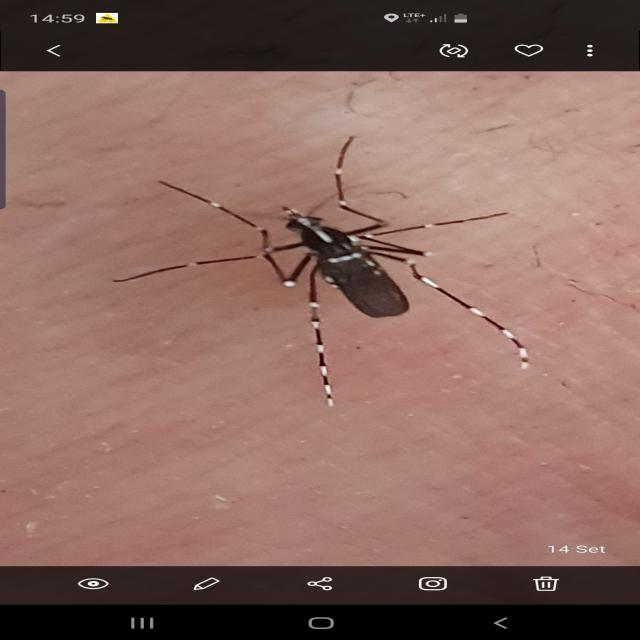albopictus: (98, 123, 567, 411)
